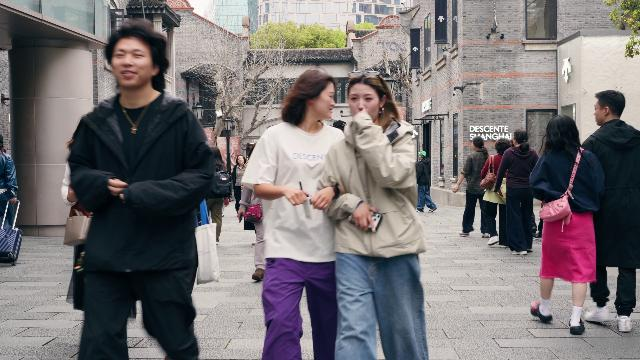person: (66, 17, 215, 360), (316, 71, 429, 360), (240, 66, 345, 360), (530, 115, 606, 335), (581, 90, 640, 333), (493, 129, 540, 255), (452, 136, 490, 236), (479, 139, 512, 246)
